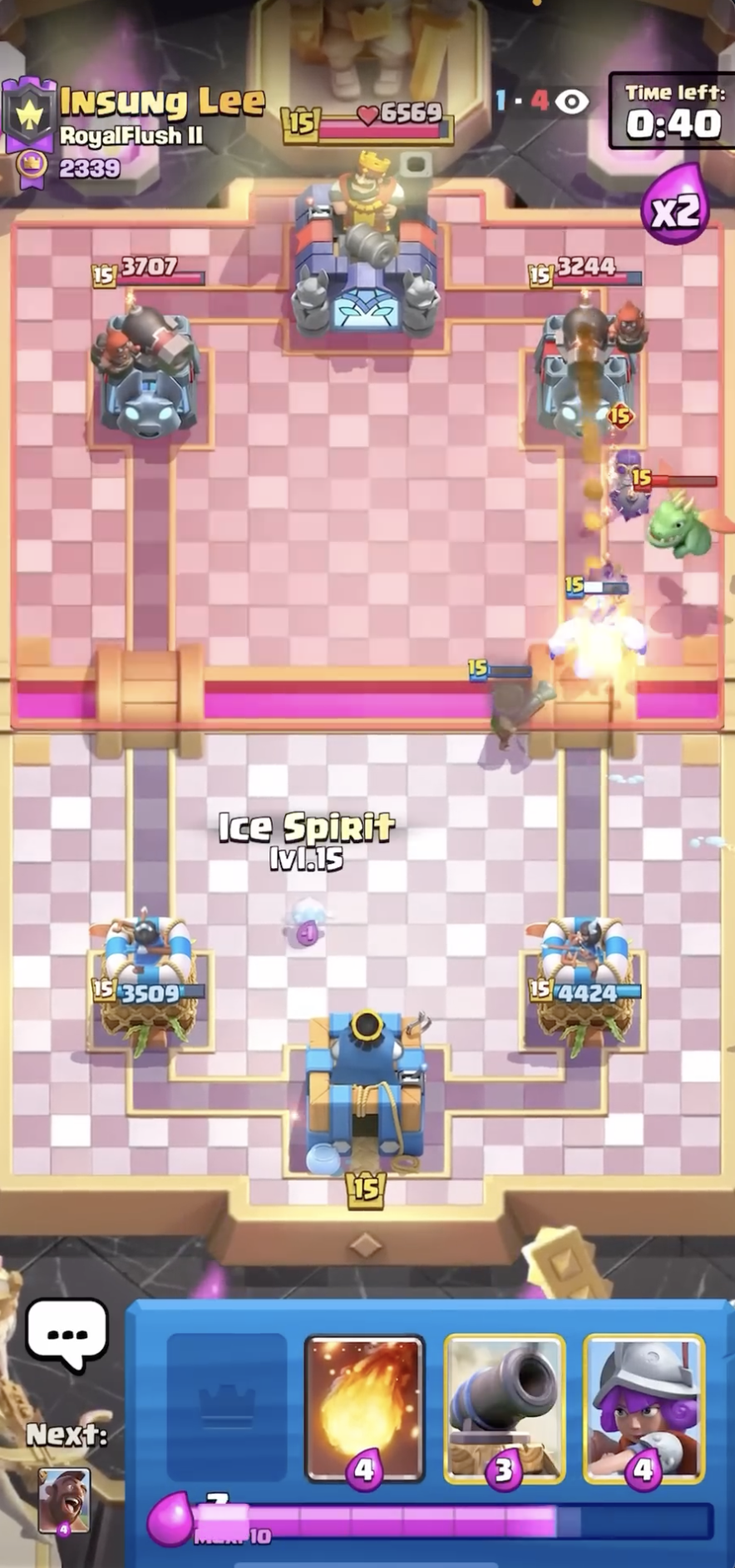baby-dragon: (633, 468, 734, 556)
evo-bomber: (601, 402, 652, 519)
